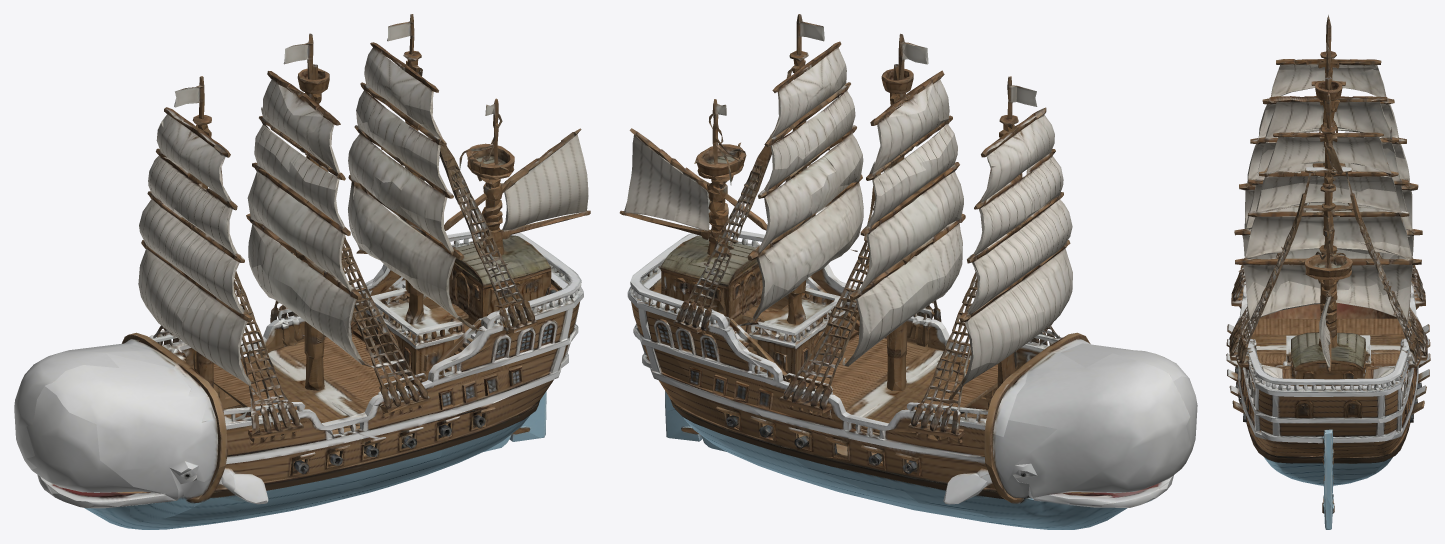
The model's file is moby_dick.glb.
The picture shows the model from 3 angles, left to right: view 1: azimuth 30°, elevation 25°; view 2: azimuth 150°, elevation 25°; view 3: azimuth 270°, elevation 25°; orthographic projection. The views are drawn at different scales.
Size of the model in its own units: 1.9 by 1.48 by 0.7088.
Materials: 1 (1 with a texture image).
